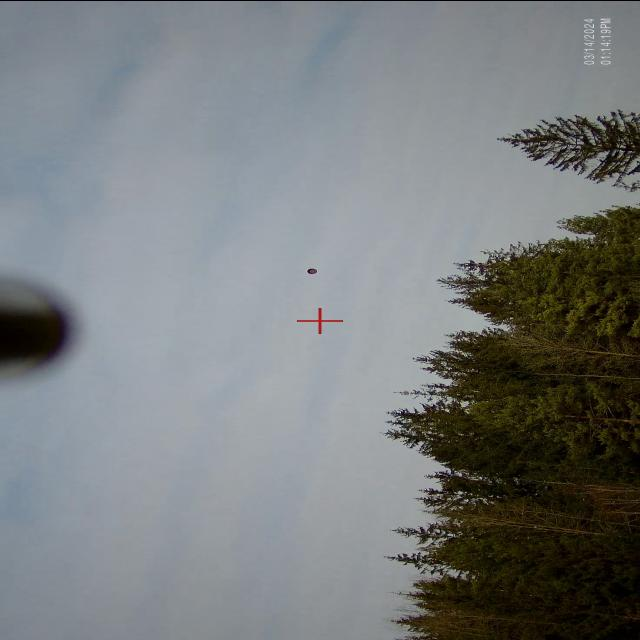entire: (300, 264, 318, 278)
